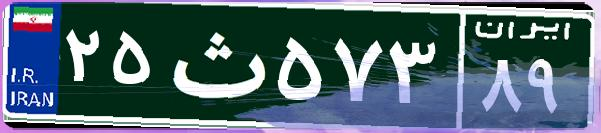2: (57, 26, 110, 107)
3: (385, 28, 445, 110)
5: (273, 28, 330, 110), (110, 28, 158, 105)
7: (330, 28, 385, 110)
8: (475, 38, 525, 113)
9: (525, 38, 570, 115)
ث: (158, 15, 273, 115)
